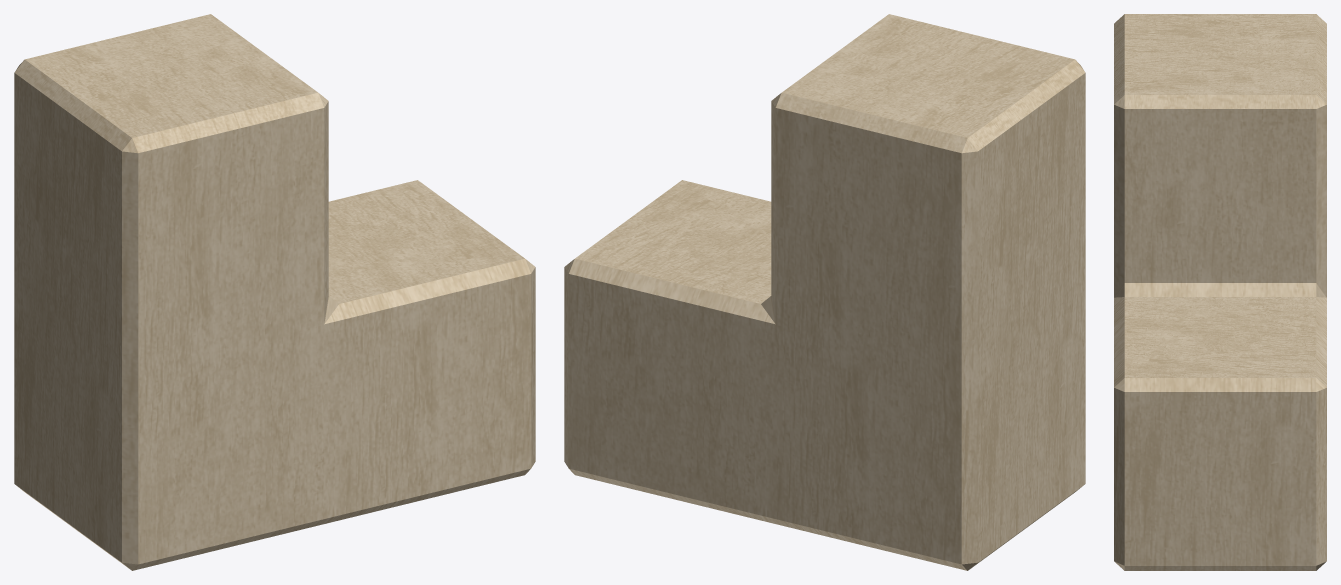
Rendered from l_block.glb.
3 renders of one model, left to right at view 1: azimuth 30°, elevation 25°; view 2: azimuth 150°, elevation 25°; view 3: azimuth 270°, elevation 25°, orthographic. The views are drawn at different scales.
Visible parts, largest first — view 1: l.block; view 2: l.block; view 3: l.block.
Part boxes in pixels (x1,y1,x2,y2): l.block: [14, 14, 535, 570]; l.block: [564, 14, 1085, 570]; l.block: [1114, 14, 1326, 570].
Bounding box in the file's own units: 4 × 4 × 2.
1 material, 1 textured.
